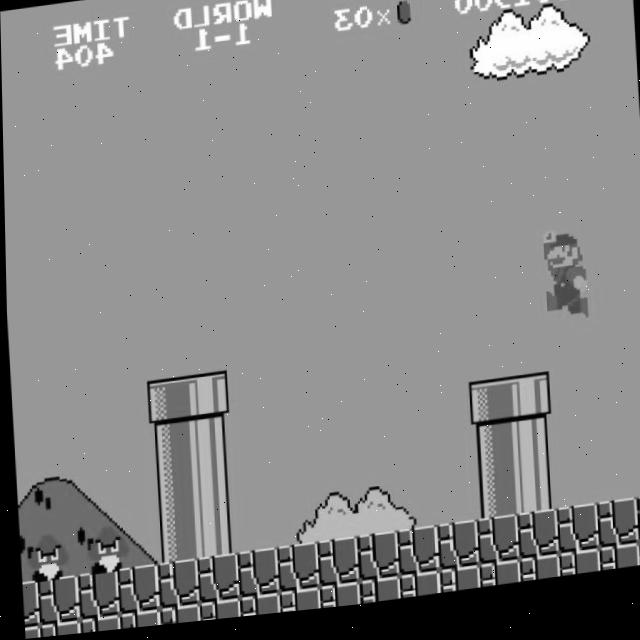0- big_mario: (541, 235, 589, 334)
14- pipe: (508, 428, 552, 479), (148, 470, 192, 521), (151, 515, 195, 566), (468, 433, 512, 483), (186, 420, 230, 470), (188, 466, 232, 516), (191, 511, 235, 561), (471, 478, 514, 529), (146, 425, 190, 474), (511, 474, 554, 524)
15- pipe_head: (184, 375, 228, 425), (144, 379, 188, 429), (505, 383, 549, 432), (465, 388, 509, 437)
17- undestructible_block: (513, 519, 557, 570), (473, 524, 517, 575), (393, 533, 437, 584), (353, 538, 397, 589), (233, 552, 277, 603), (153, 561, 197, 612), (113, 566, 157, 617), (593, 510, 637, 560), (553, 515, 597, 565), (433, 529, 477, 579), (313, 543, 357, 593), (273, 548, 317, 598), (193, 557, 237, 607), (73, 571, 117, 621), (34, 576, 77, 626), (595, 555, 638, 583), (555, 560, 598, 588), (435, 574, 478, 602), (355, 583, 398, 611), (515, 565, 558, 592), (475, 570, 518, 597), (395, 579, 438, 606), (316, 588, 358, 615), (276, 593, 318, 618), (236, 597, 278, 622), (196, 601, 238, 625), (156, 607, 198, 628), (19, 580, 37, 627), (116, 611, 158, 631), (76, 616, 118, 635), (36, 621, 78, 638), (633, 507, 640, 555), (21, 625, 37, 639), (636, 553, 640, 577)
8- goomba: (83, 523, 129, 577), (24, 530, 70, 584)
